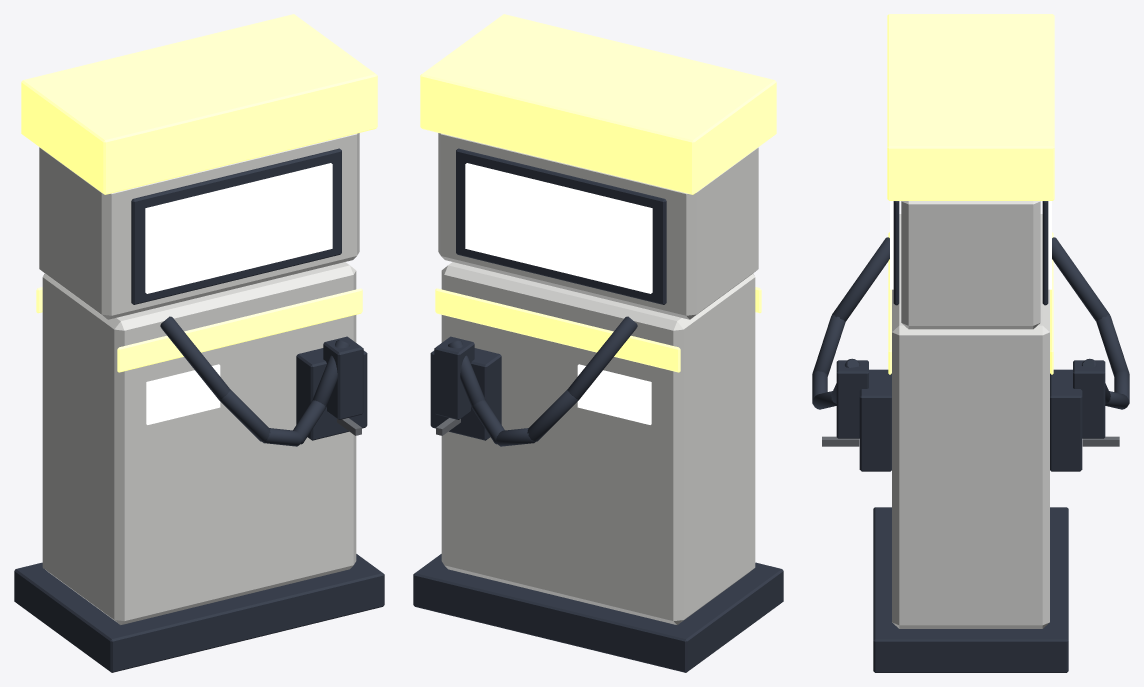
Rendered from fuel-pump.glb.
3 views of the same model, side by side, from view 1: azimuth 30°, elevation 25°; view 2: azimuth 150°, elevation 25°; view 3: azimuth 270°, elevation 25° (orthographic).
Parts seen in each view (by area): view 1: Pump_Body, Pump_Orange, Pump_Dark, Pump_Screens; view 2: Pump_Body, Pump_Orange, Pump_Dark, Pump_Screens; view 3: Pump_Body, Pump_Orange, Pump_Dark, Pump_Metal, Pump_Screens.
Part boxes in pixels (x1,y1,x2,y2): Pump_Body: [39, 133, 359, 624]; Pump_Orange: [21, 14, 377, 372]; Pump_Dark: [14, 148, 384, 672]; Pump_Screens: [145, 163, 332, 424]; Pump_Body: [438, 133, 758, 624]; Pump_Orange: [420, 14, 776, 372]; Pump_Dark: [413, 148, 783, 672]; Pump_Screens: [465, 163, 652, 424]; Pump_Body: [892, 201, 1049, 628]; Pump_Orange: [887, 14, 1054, 374]; Pump_Dark: [812, 201, 1129, 672]; Pump_Metal: [822, 436, 1119, 446]; Pump_Screens: [890, 201, 1051, 289].
Bounding box in the file's own units: 3.4 × 6.25 × 3.41.
